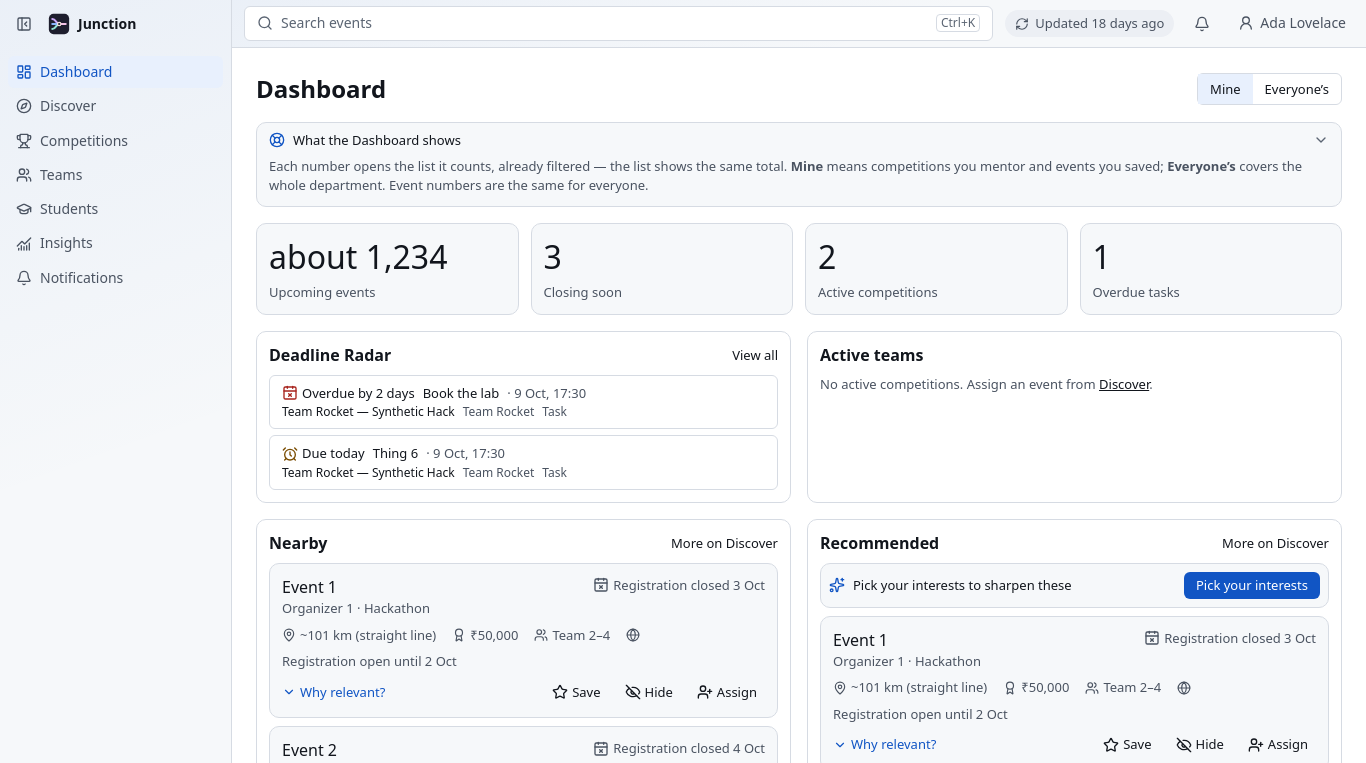
Scenario: the KPI tiles › Closing soon opens All events with the Registration chip
Check: the navigation bar named "Main" is shown, box [0,0,231,302]
Click the text "3" at [553, 257], box [544,235,562,278]
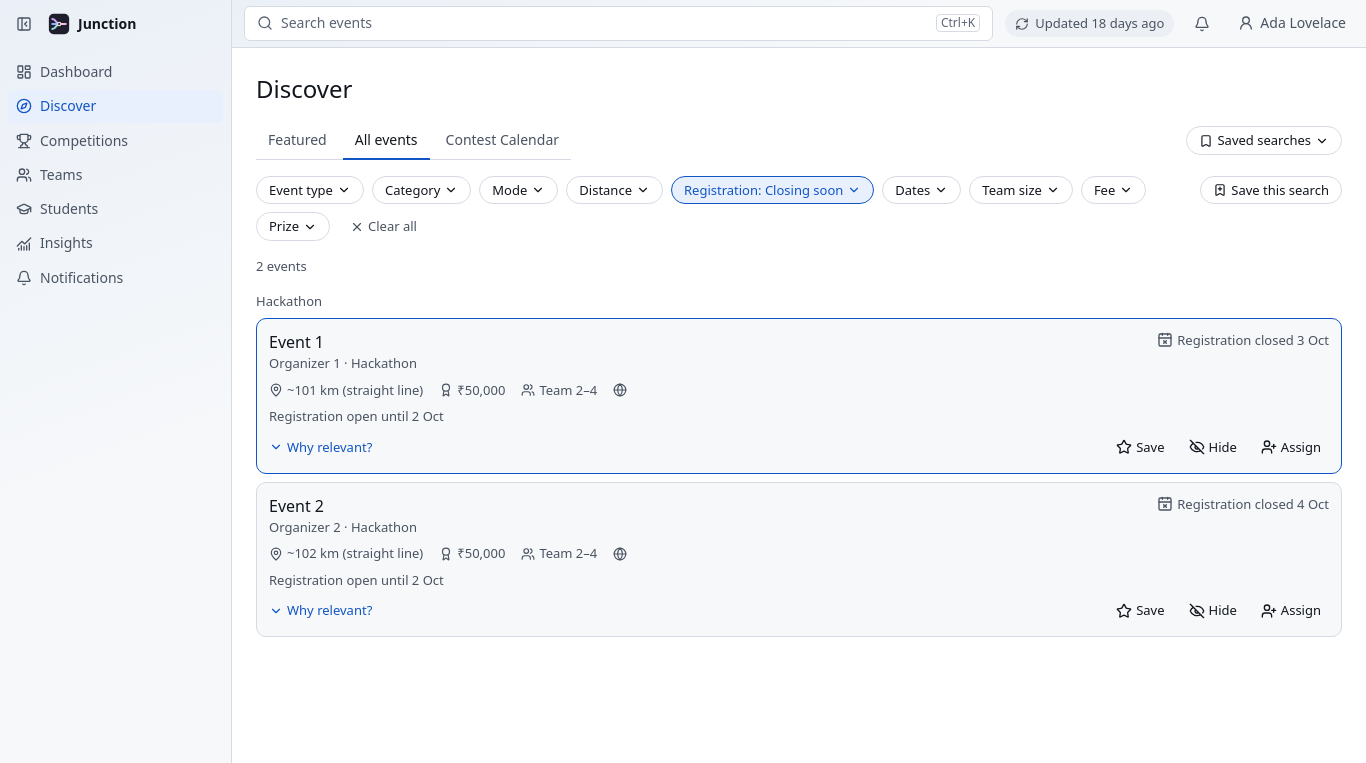
Check: the button with aria-label "Registration filter: Registration: Closing soon" is shown, box [671,176,874,204]
